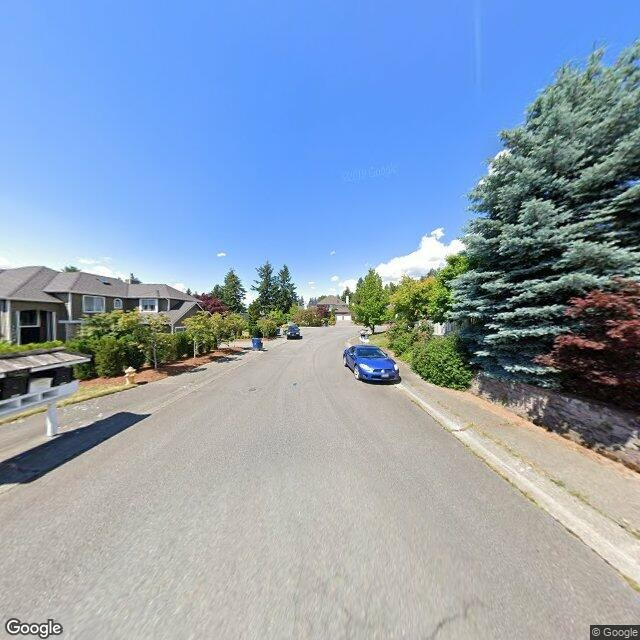hydrant: (119, 363, 141, 390)
